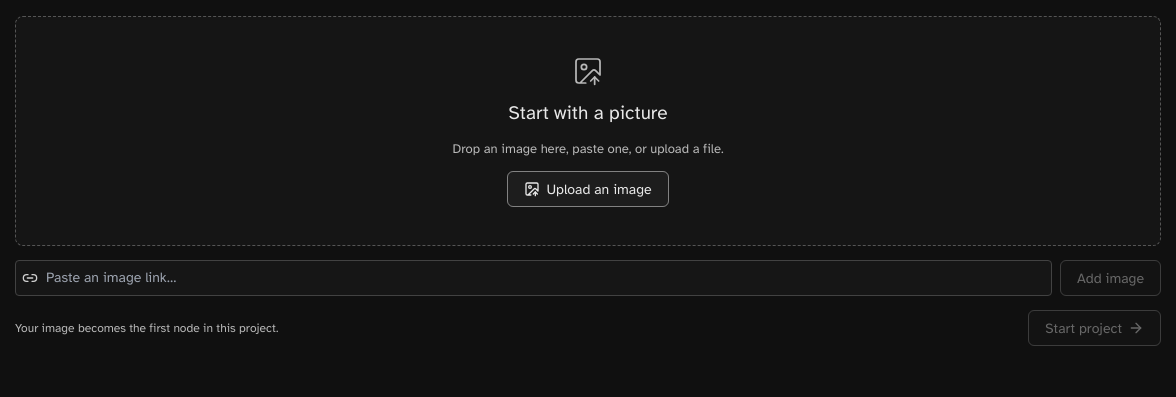
Test case: image project input › shows link failures inline without creating a project
Type "https://example.com/page" into the field labelled "image link" at (545,278), box [44, 263, 1045, 293]
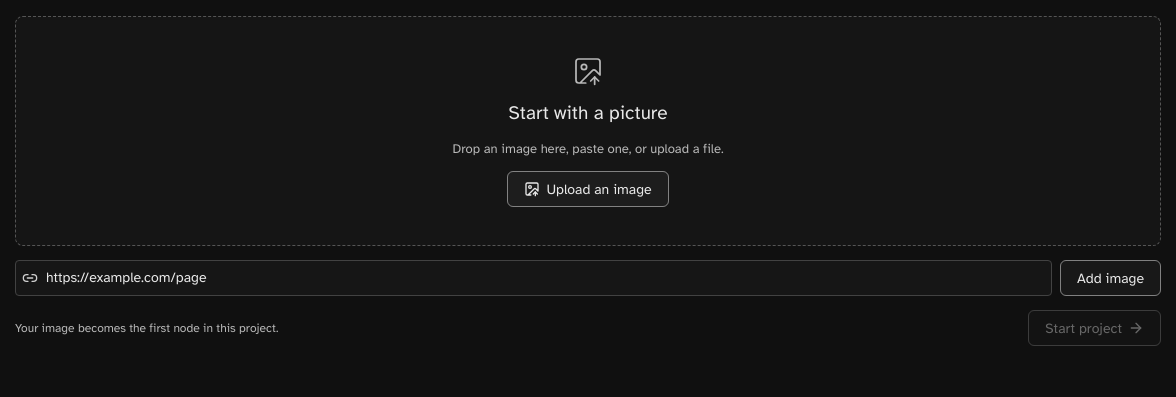
Click the button "Add image" at (1111,278), box [1060, 260, 1161, 296]
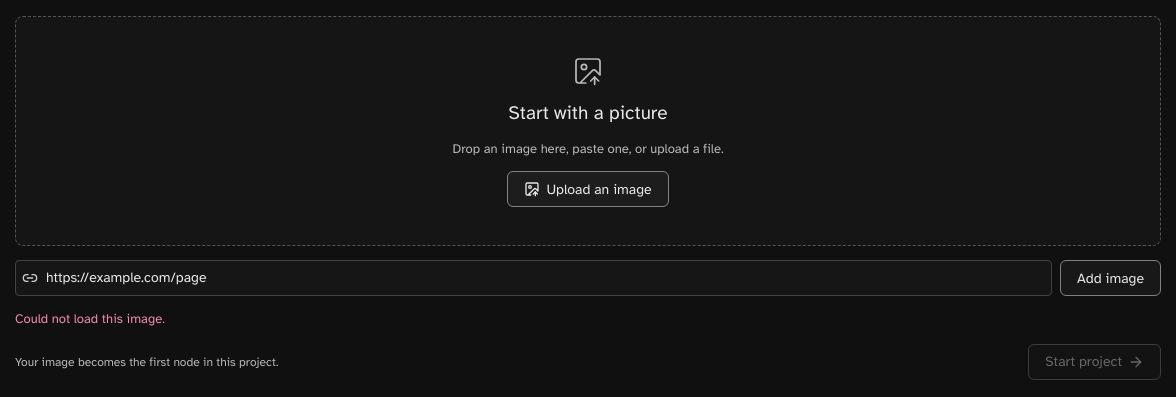
Expected: the button "Start project" is disabled, [1028, 344, 1161, 380]
Expected: the message "Could not load this image." is shown, [15, 311, 165, 327]
